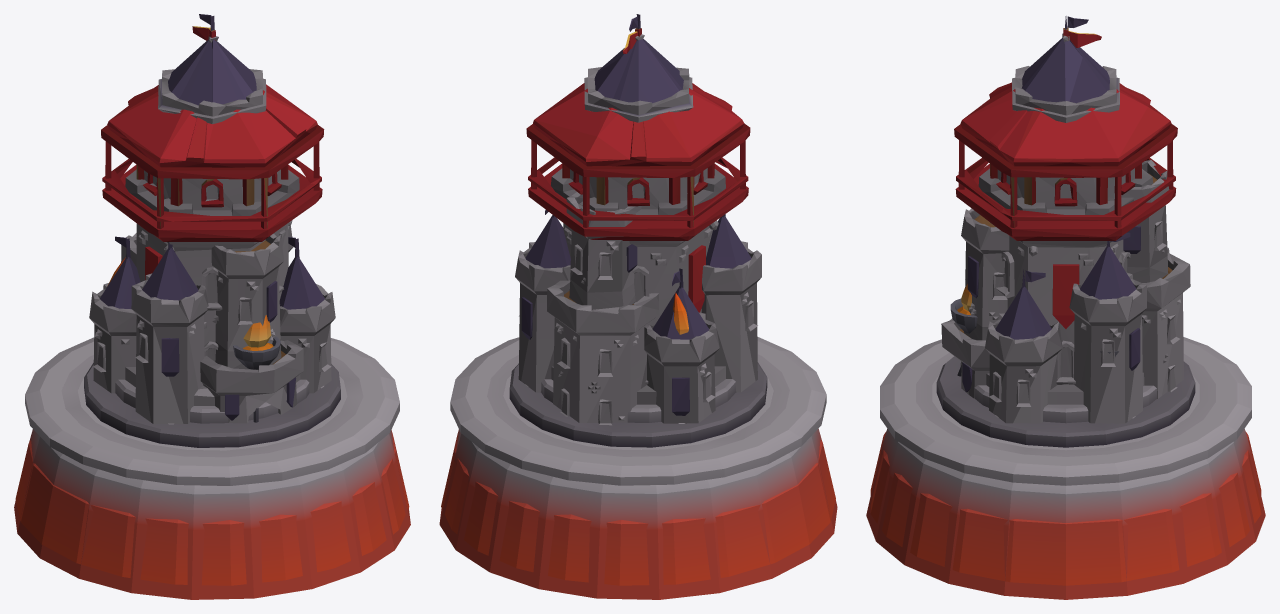
Rendered from fortress-s9-Dl5Xin1p.glb.
The picture shows the model from 3 angles, left to right: view 1: azimuth 30°, elevation 25°; view 2: azimuth 150°, elevation 25°; view 3: azimuth 270°, elevation 25°; orthographic projection.
Visible parts, largest first — view 1: sc_z2_3, sc_tower_1, sc_z3_3, sc_z3_2; view 2: sc_tower_1, sc_z2_3, sc_z3_3, sc_z3_2; view 3: sc_z2_3, sc_tower_1, sc_z3_3, sc_z3_2.
Boxes of the visible parts, x1,y1,x2,y2 form: sc_z2_3: [15, 26, 409, 585]; sc_tower_1: [14, 14, 410, 599]; sc_z3_3: [61, 355, 363, 457]; sc_z3_2: [77, 220, 347, 450]; sc_tower_1: [439, 14, 837, 599]; sc_z2_3: [441, 28, 835, 585]; sc_z3_3: [487, 354, 789, 456]; sc_z3_2: [503, 220, 773, 449]; sc_z2_3: [870, 27, 1261, 585]; sc_tower_1: [866, 16, 1265, 599]; sc_z3_3: [916, 352, 1215, 456]; sc_z3_2: [932, 246, 1199, 449].
Size of the model in its own units: 13.6 by 18.8 by 13.6.
